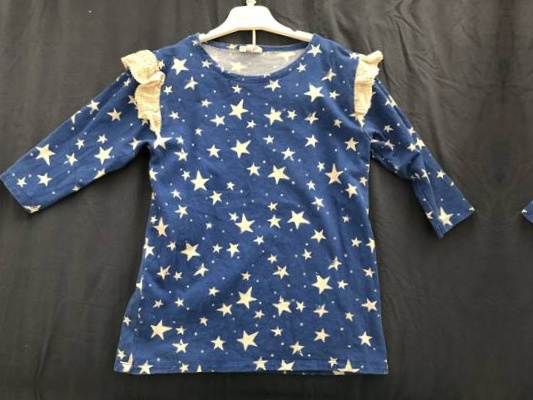Dress: (0, 0, 466, 390), (0, 395, 449, 400), (12, 0, 483, 2), (531, 22, 533, 400)
